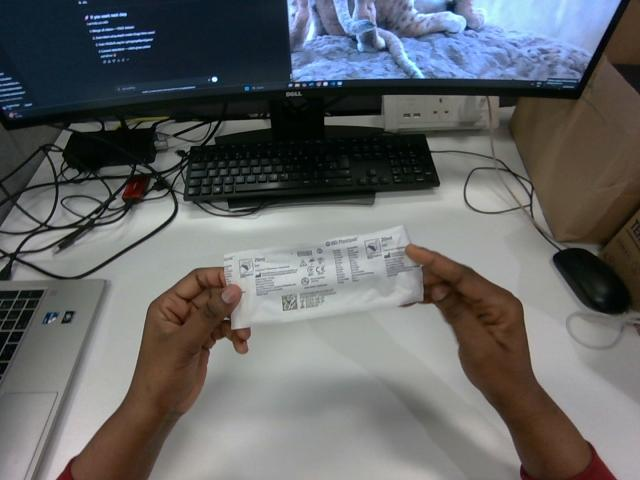syringe: (224, 226, 422, 328)
